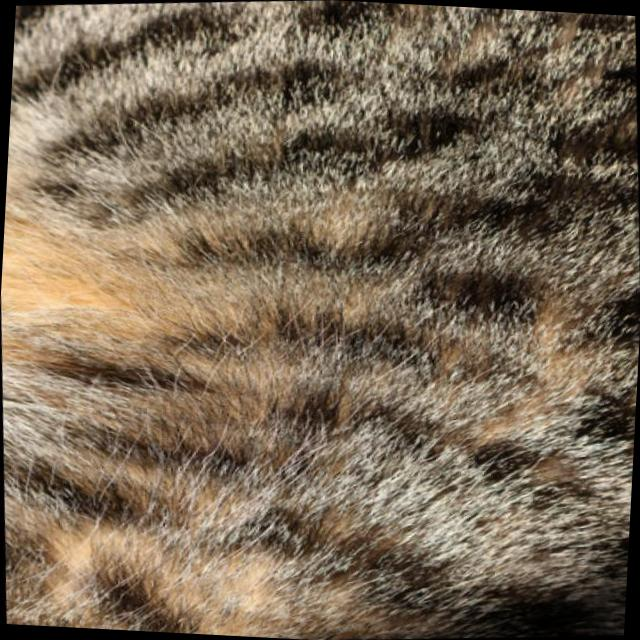Healthy skin: (0, 0, 640, 365), (307, 309, 640, 640), (43, 362, 331, 638)
